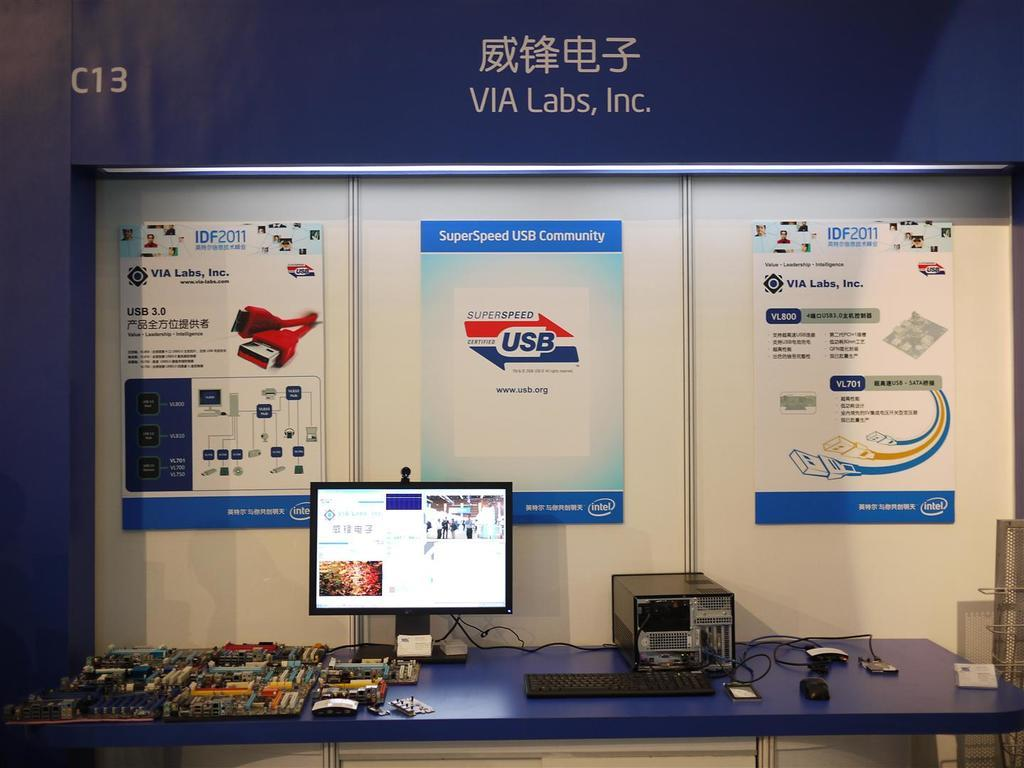Computer-keyboard: (523, 668, 714, 697)
Computer-monitor: (306, 478, 514, 662)
